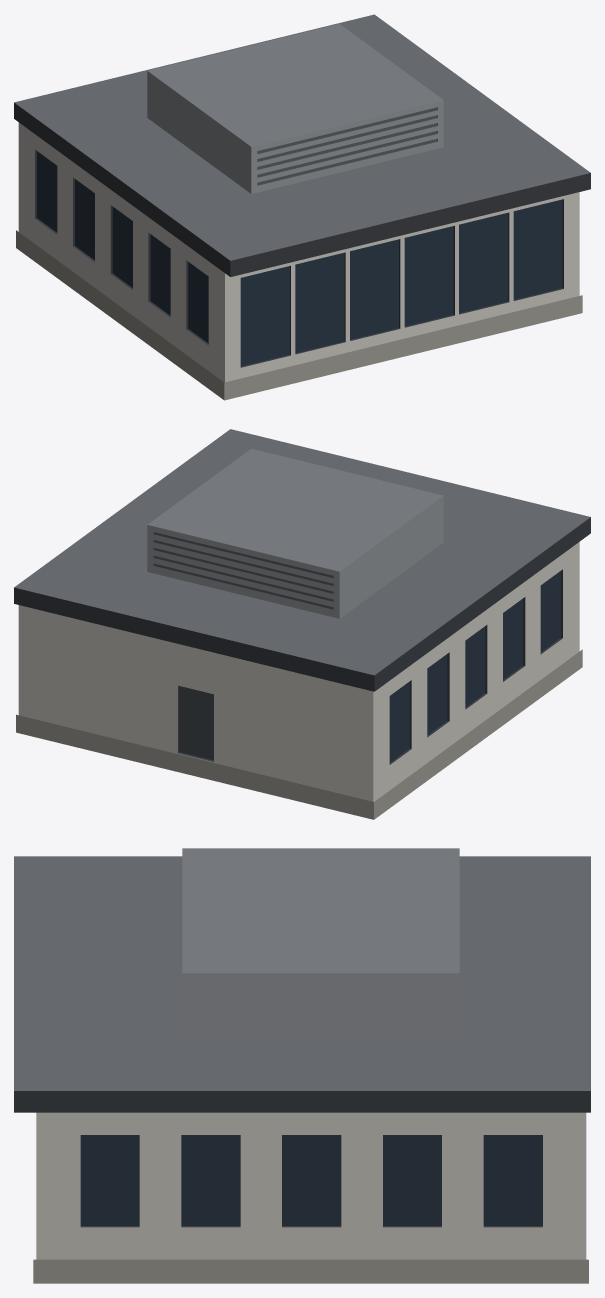
File: pits_office.glb
The picture shows the model from 3 angles, top to bottom: view 1: azimuth 30°, elevation 25°; view 2: azimuth 150°, elevation 25°; view 3: azimuth 270°, elevation 25°; orthographic projection. The views are drawn at different scales.
Visible parts, largest first — view 1: pits_office; view 2: pits_office; view 3: pits_office.
Boxes of the visible parts, x1,y1,x2,y2 form: pits_office: [14, 14, 590, 400]; pits_office: [14, 429, 590, 819]; pits_office: [14, 848, 590, 1283].
Bounding box in the file's own units: 12 × 6.12 × 12.48.
